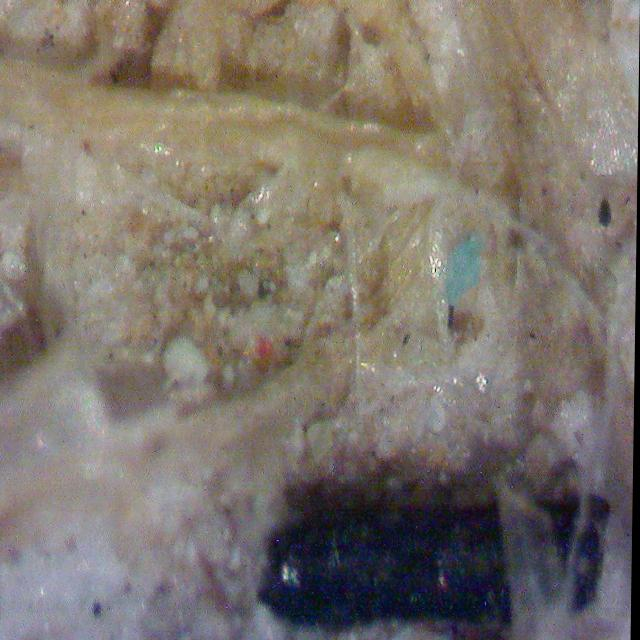microplastic: (448, 228, 484, 310)
